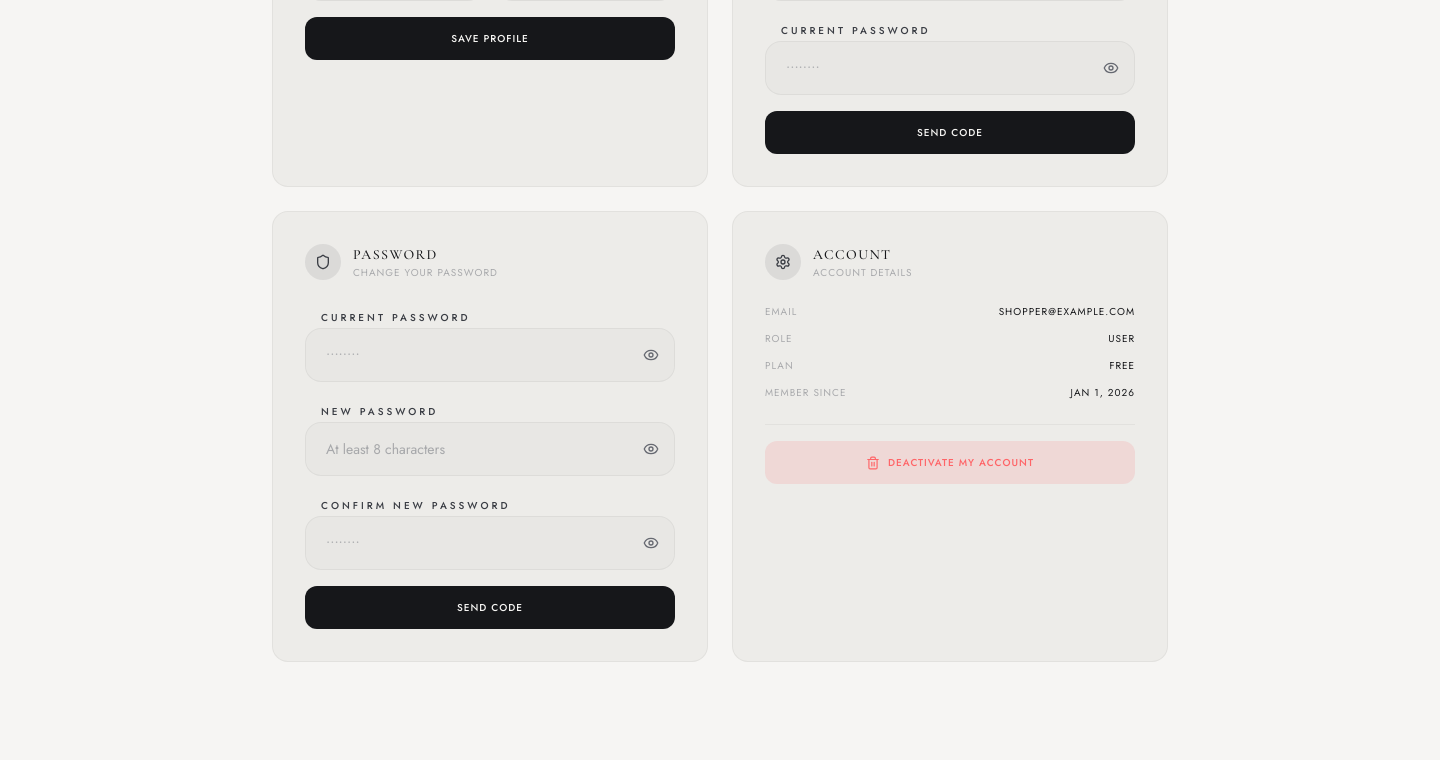
Scenario: SettingsPage › the wrong current password shows the server message at the request step
The width and height of the screenshot is (1440, 760).
(page scrolled)
Type "wrong-one" into the 2nd password field with placeholder "••••••••". click: (490,355)
box: [305,328,675,382]
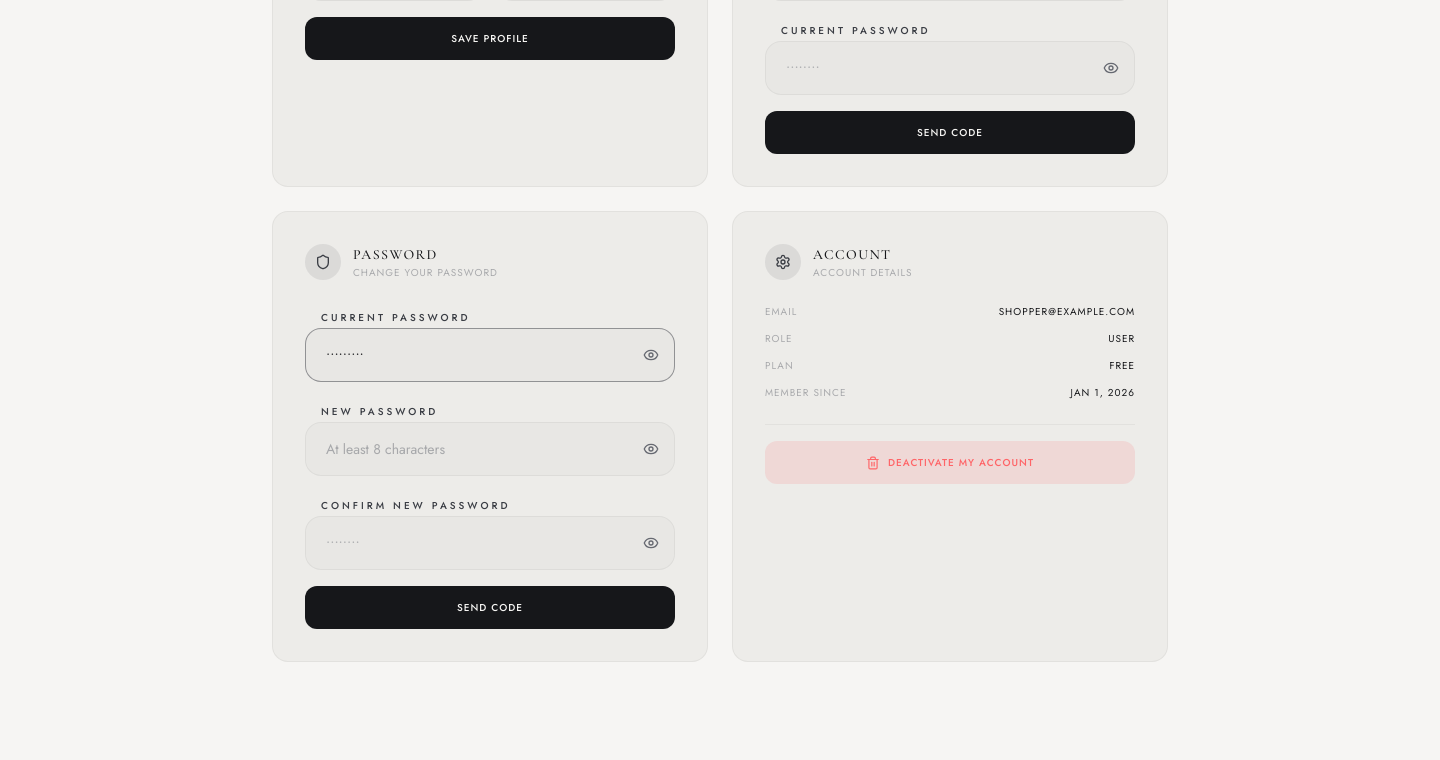
Type "New-Password-123" into the password field with placeholder "At least 8 characters". click: (490,449)
box: [305,422,675,476]
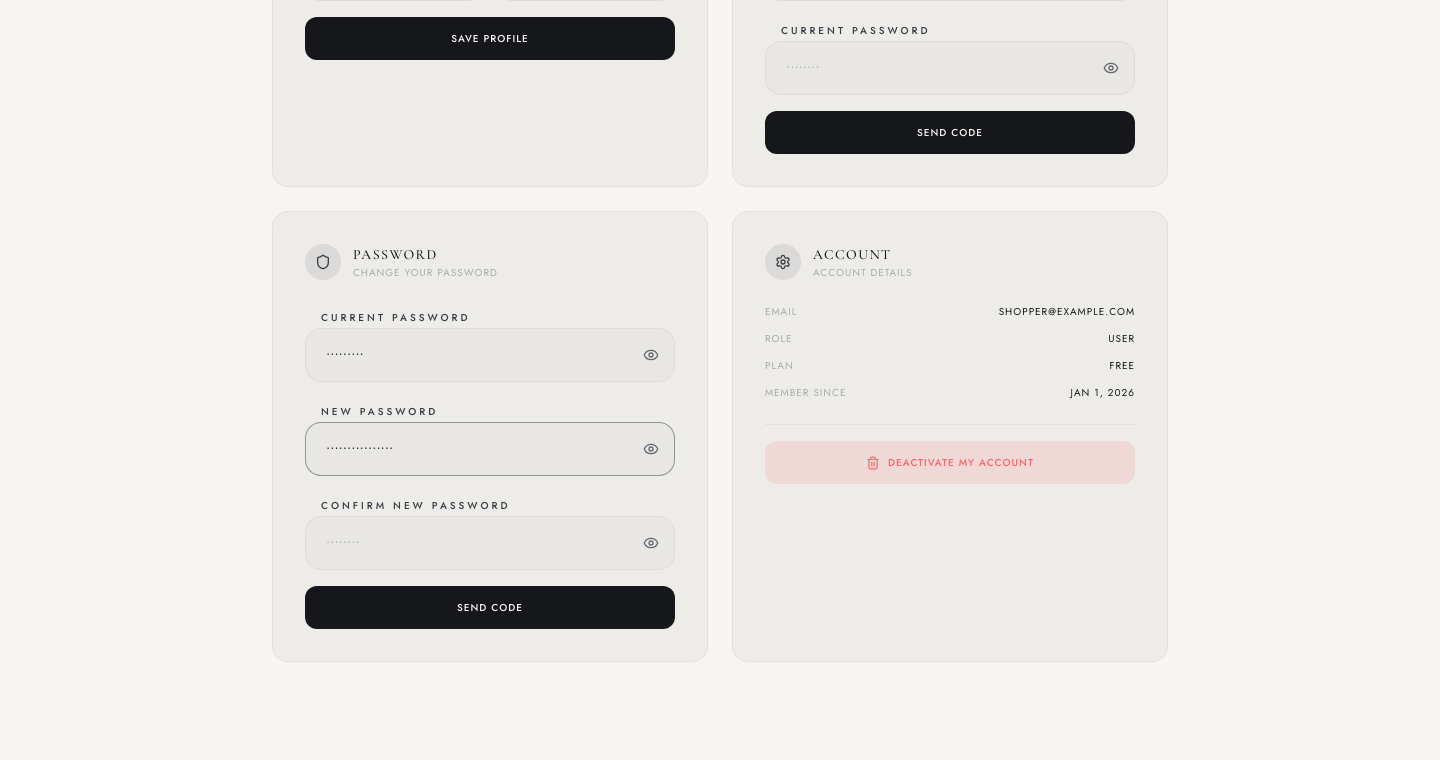
Type "New-Password-123" into the password field with placeholder "••••••••" below "Confirm New Password". click: (490,543)
box: [305,516,675,570]
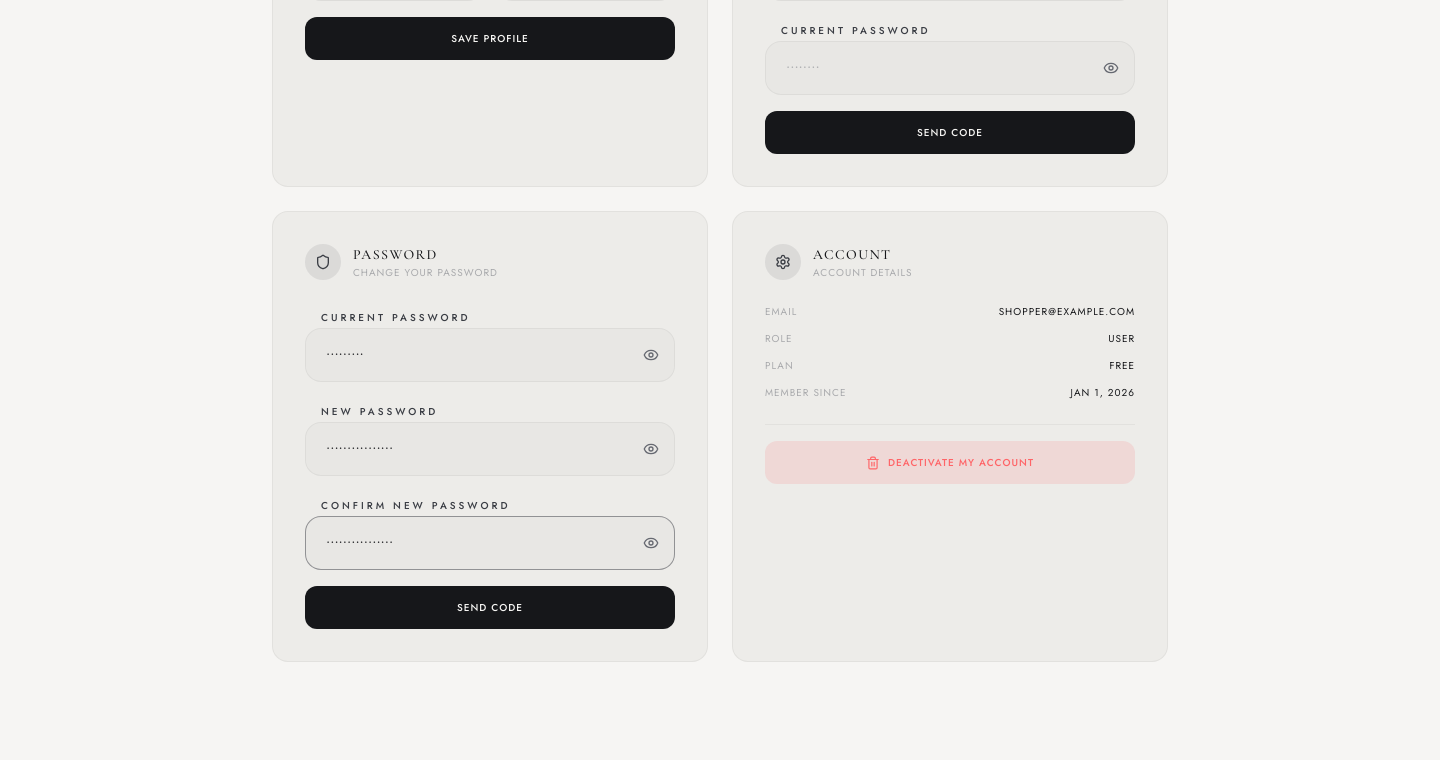
Click the button "Send Code" below "Confirm New Password". click: (490,608)
box: [305,586,675,629]
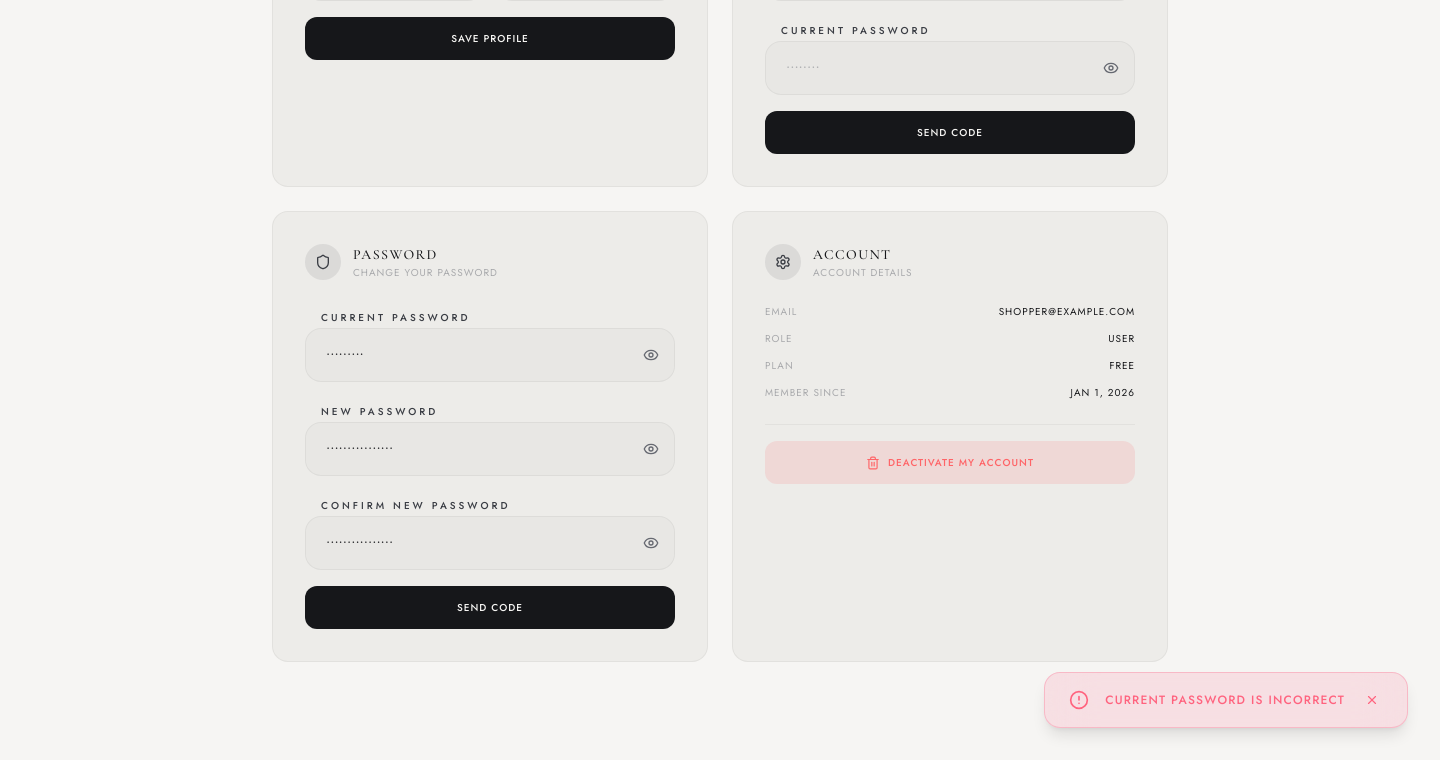
Expected: the text "Current password is incorrect" is shown, [1105,692,1345,708]
